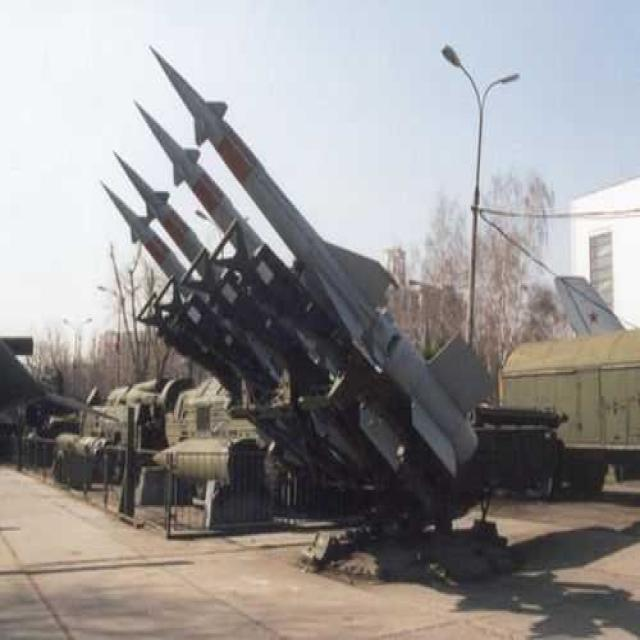missile: (145, 38, 482, 457), (130, 93, 273, 269), (110, 142, 212, 281), (100, 178, 190, 296)
